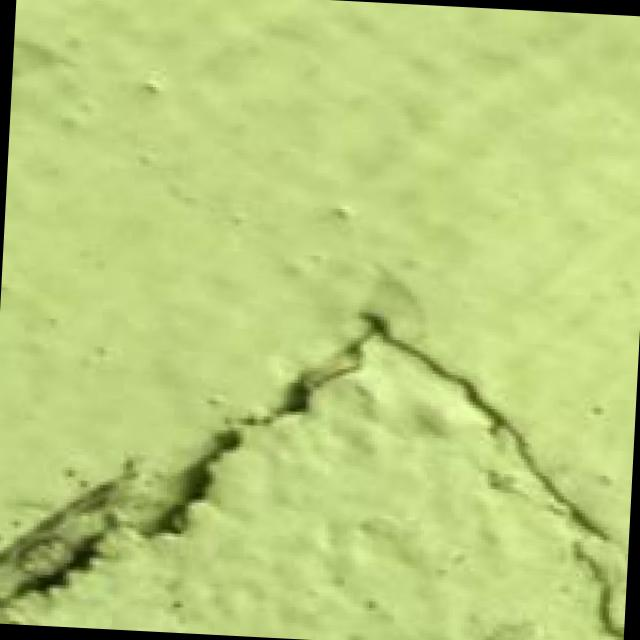crack: (0, 271, 615, 640)
